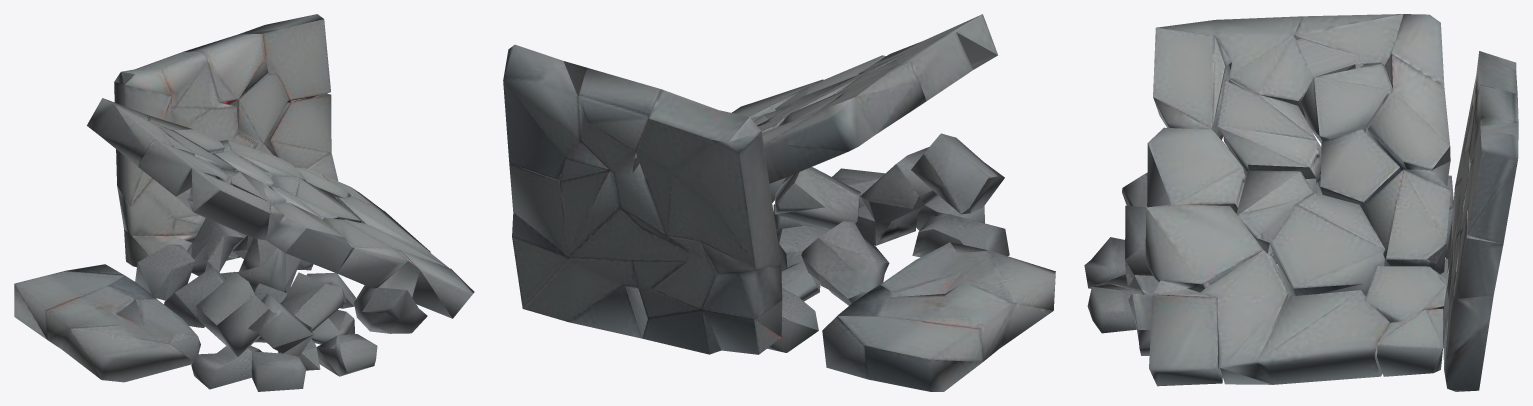
Rendered from deco_debris.glb.
The picture shows the model from 3 angles, left to right: view 1: azimuth 30°, elevation 25°; view 2: azimuth 150°, elevation 25°; view 3: azimuth 270°, elevation 25°; orthographic projection. The views are drawn at different scales.
Parts seen in each view (by area): view 1: mesh_node; view 2: mesh_node; view 3: mesh_node.
Part boxes in pixels (bbox=[...]): mesh_node: bbox=[14, 14, 474, 391]; mesh_node: bbox=[503, 14, 1055, 391]; mesh_node: bbox=[1084, 14, 1518, 391].
Size of the model in its own units: 1.89 by 1.12 by 1.72.
Materials: 1 (1 with a texture image).
